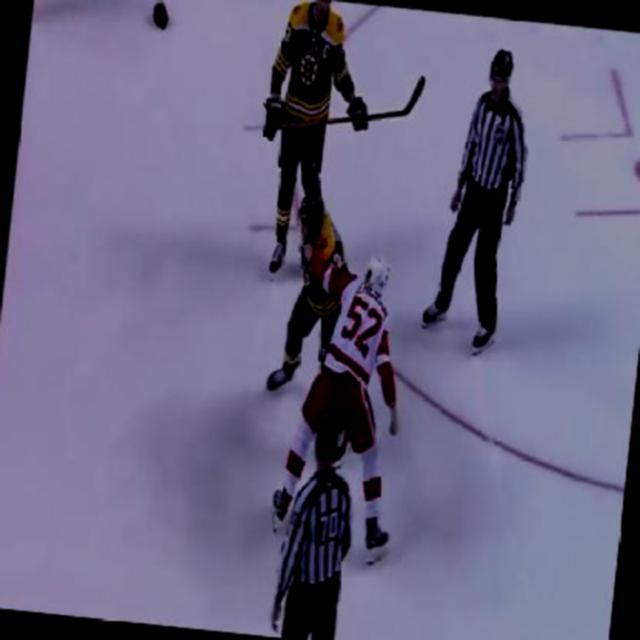fight: (257, 186, 423, 479)
non-fight: (416, 40, 538, 362)
